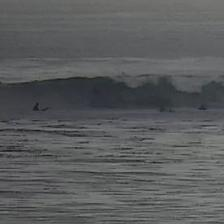surfer: (159, 107, 176, 113), (32, 102, 40, 111), (200, 105, 208, 110), (0, 76, 3, 86)
